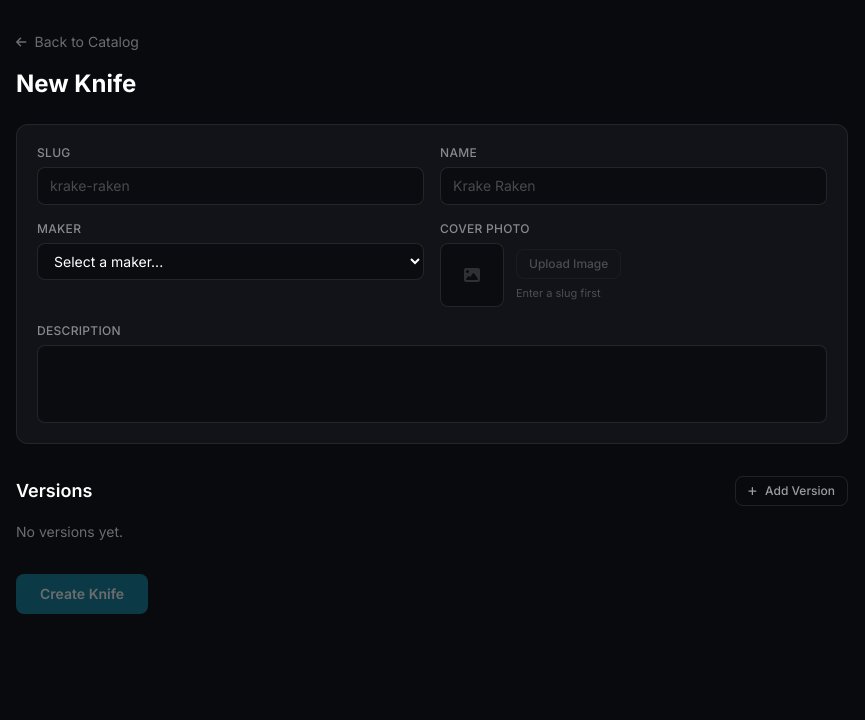
AdminKnifeFormPage — create mode › adds and removes a version, and adds/removes a variant within it
Click the button "Add Version" at (792, 491), box [735,476,848,506]
(page scrolled)
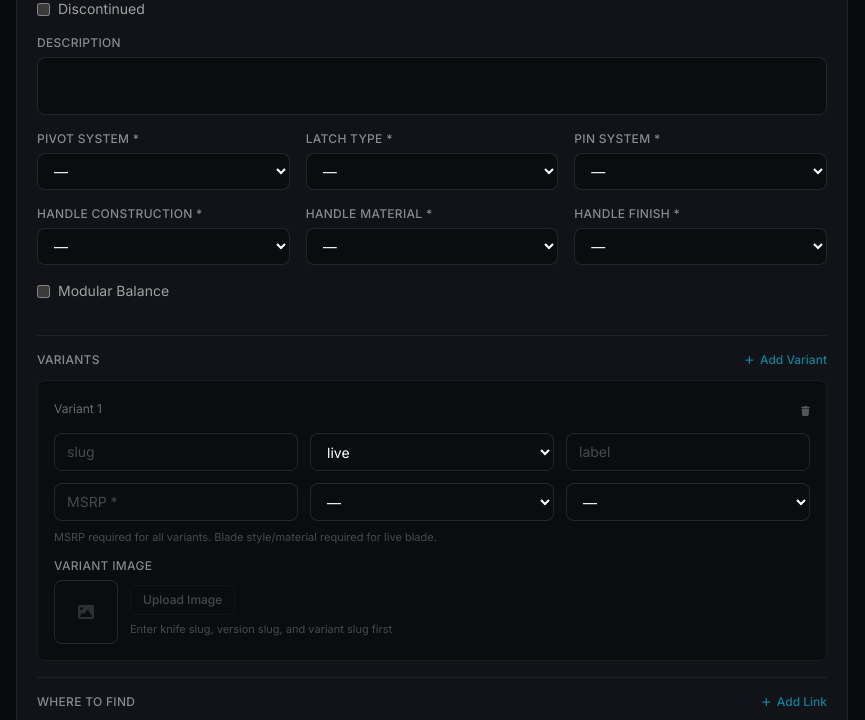
Expected: the text "Variant 1" is shown, [54,401,102,417]
Click the button "Add Variant" at (786, 360), box [745,352,827,368]
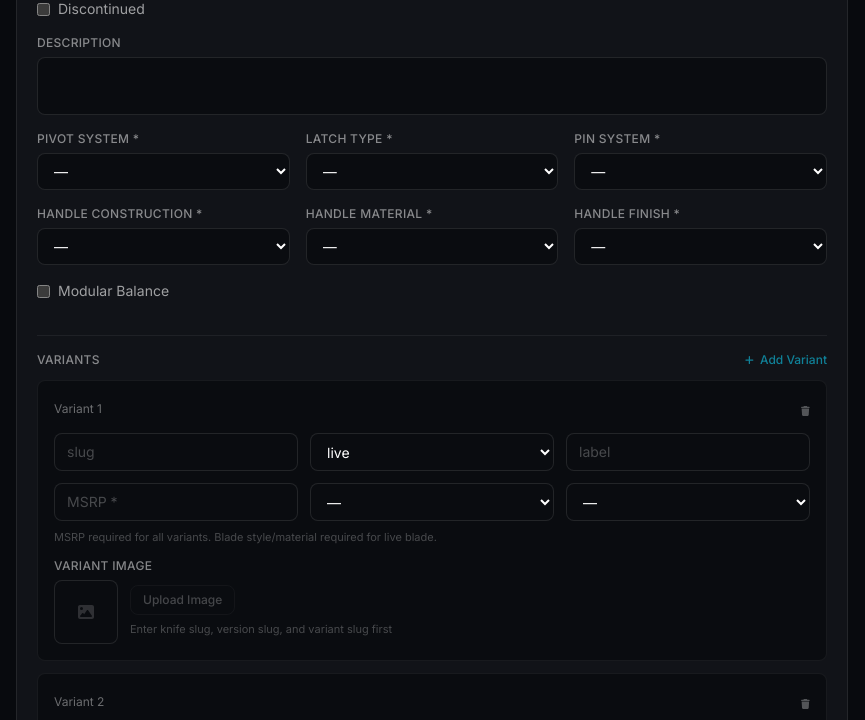
Expected: the text "Variant 2" is shown, [54,694,104,710]
Note: Last trash icon in DOM order belongs to the most recently added variant.
Click the button with class "fa-trash" at (806, 702), box [801,690,810,714]
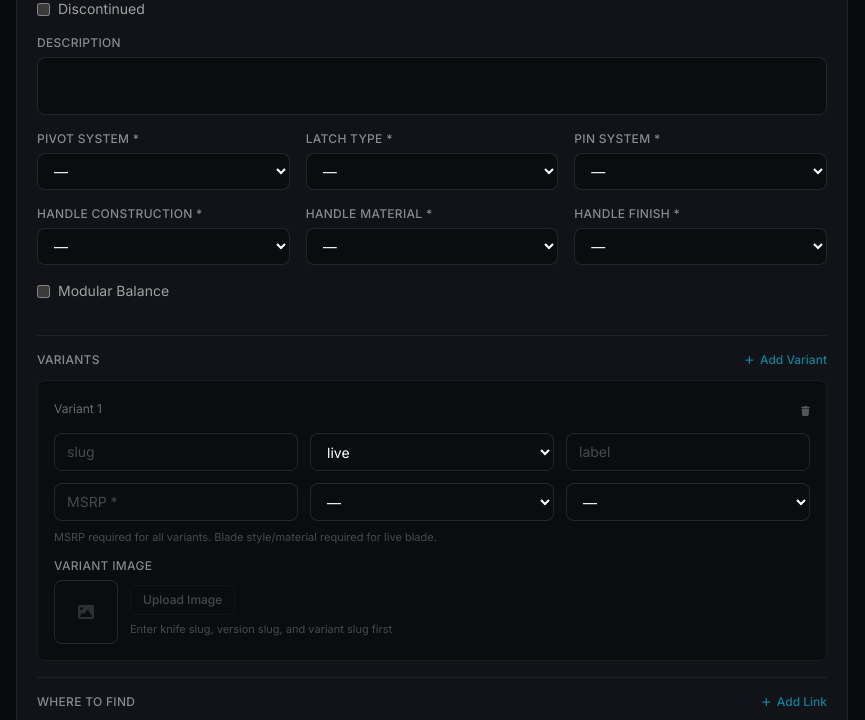
Expected: the text "Variant 2" is gone
